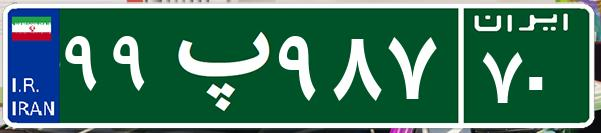0: (525, 38, 570, 115)
7: (385, 28, 445, 110), (475, 38, 525, 113)
8: (330, 28, 385, 110)
9: (273, 28, 330, 110), (57, 26, 110, 107), (110, 28, 158, 105)
پ: (158, 15, 273, 115)
